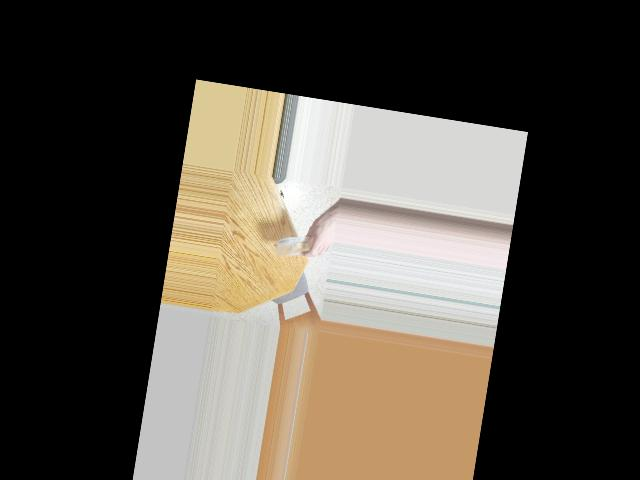cheese: (277, 225, 314, 261)
